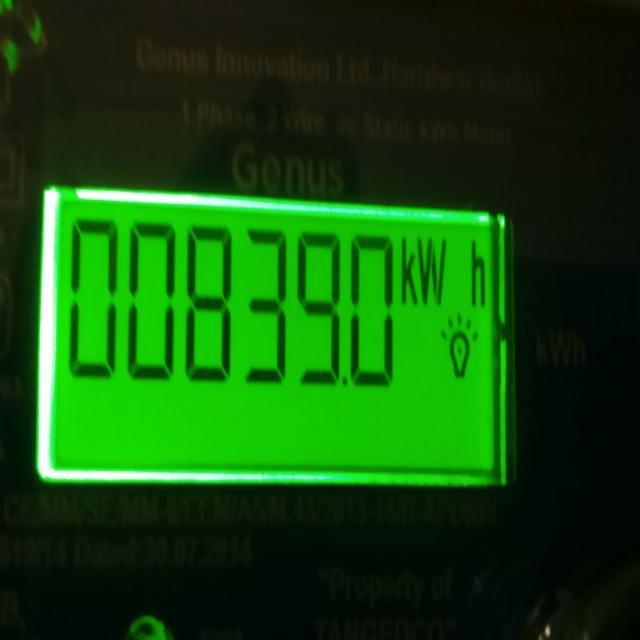.: (342, 374, 348, 386)
0: (129, 223, 175, 383), (72, 220, 117, 378), (350, 238, 393, 386)
3: (249, 228, 287, 386)
8: (188, 224, 232, 384)
9: (298, 233, 338, 385)
